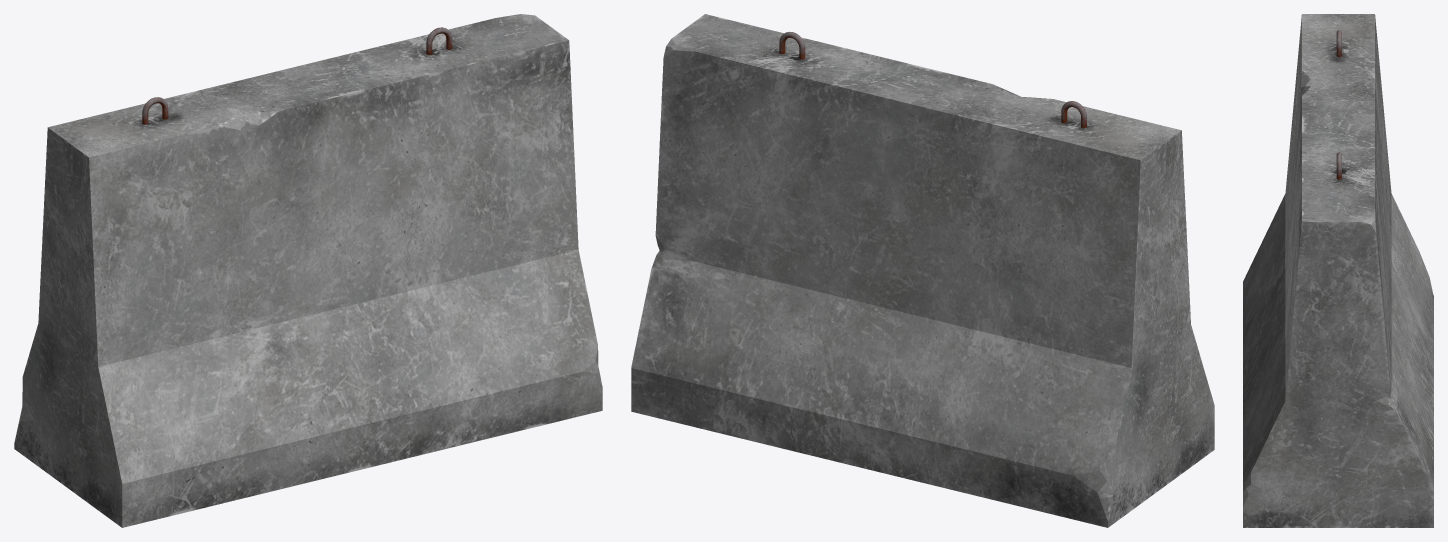
3 renders of one model, left to right at view 1: azimuth 30°, elevation 25°; view 2: azimuth 150°, elevation 25°; view 3: azimuth 270°, elevation 25°, orthographic. The views are drawn at different scales.
Parts seen in each view (by area): view 1: Concrete Block, Metal Holders; view 2: Concrete Block, Metal Holders; view 3: Concrete Block, Metal Holders.
Part boxes in pixels (left/top/right/bottom): Concrete Block: left=14, top=14, right=602, bottom=527; Metal Holders: left=142, top=27, right=452, bottom=124; Concrete Block: left=631, top=14, right=1214, bottom=527; Metal Holders: left=779, top=31, right=1086, bottom=128; Concrete Block: left=1243, top=14, right=1433, bottom=527; Metal Holders: left=1336, top=30, right=1341, bottom=179.
Size of the model in its own units: 5.15 by 3.79 by 2.
Materials: 2 (2 with a texture image).
